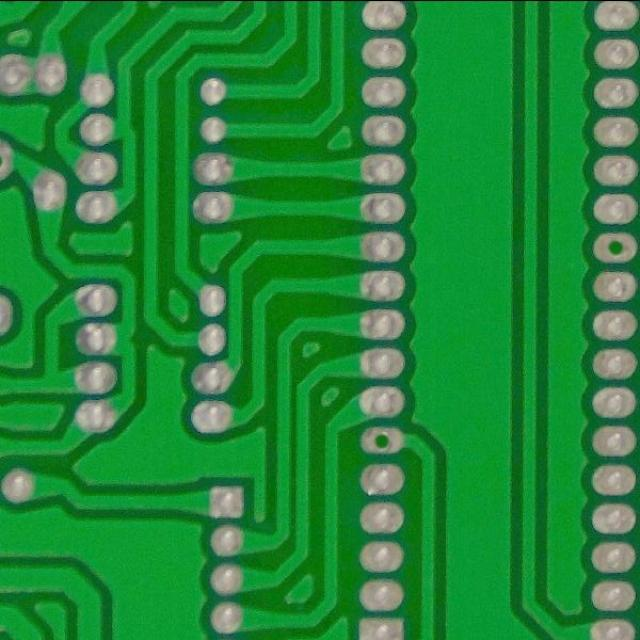Missing_Hole: (587, 224, 640, 270), (354, 421, 410, 459), (0, 134, 23, 185)
